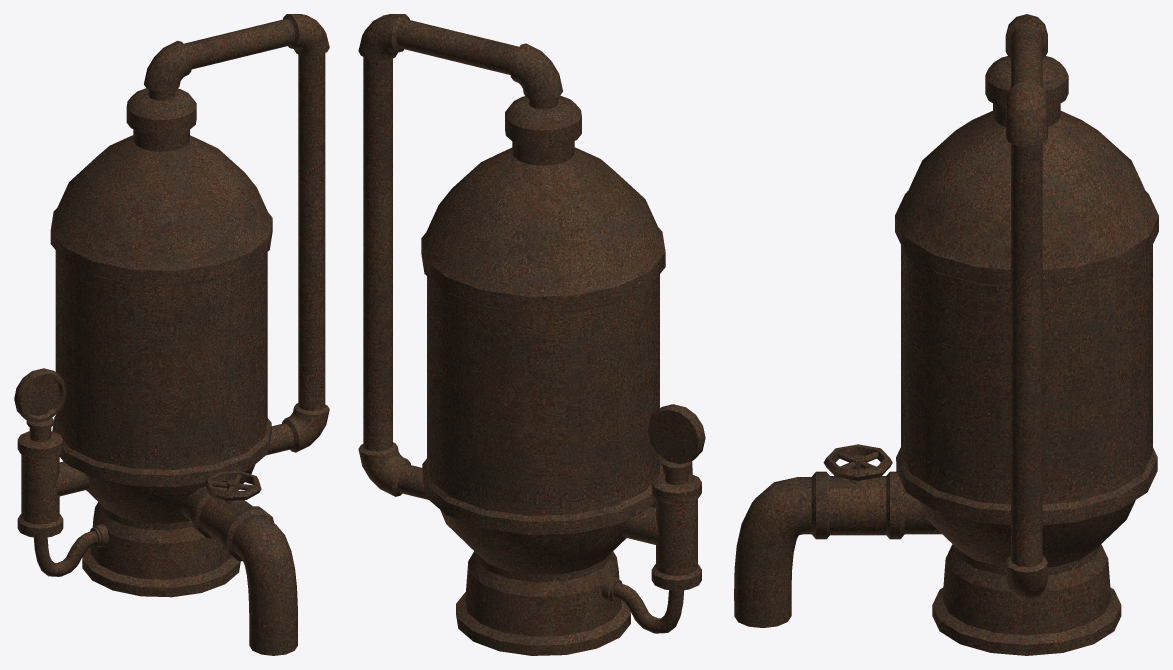
Rendered from distillery_mx_1.glb.
The picture shows the model from 3 angles, left to right: view 1: azimuth 30°, elevation 25°; view 2: azimuth 150°, elevation 25°; view 3: azimuth 270°, elevation 25°; orthographic projection. The views are drawn at different scales.
Visible parts, largest first — view 1: distillery_mx_1; view 2: distillery_mx_1; view 3: distillery_mx_1.
Part boxes in pixels (left/top/right/bottom): distillery_mx_1: left=14, top=14, right=329, bottom=655; distillery_mx_1: left=358, top=14, right=705, bottom=655; distillery_mx_1: left=734, top=14, right=1158, bottom=655.
Size of the model in its own units: 2.22 by 3.52 by 2.22.
1 material, 1 textured.
